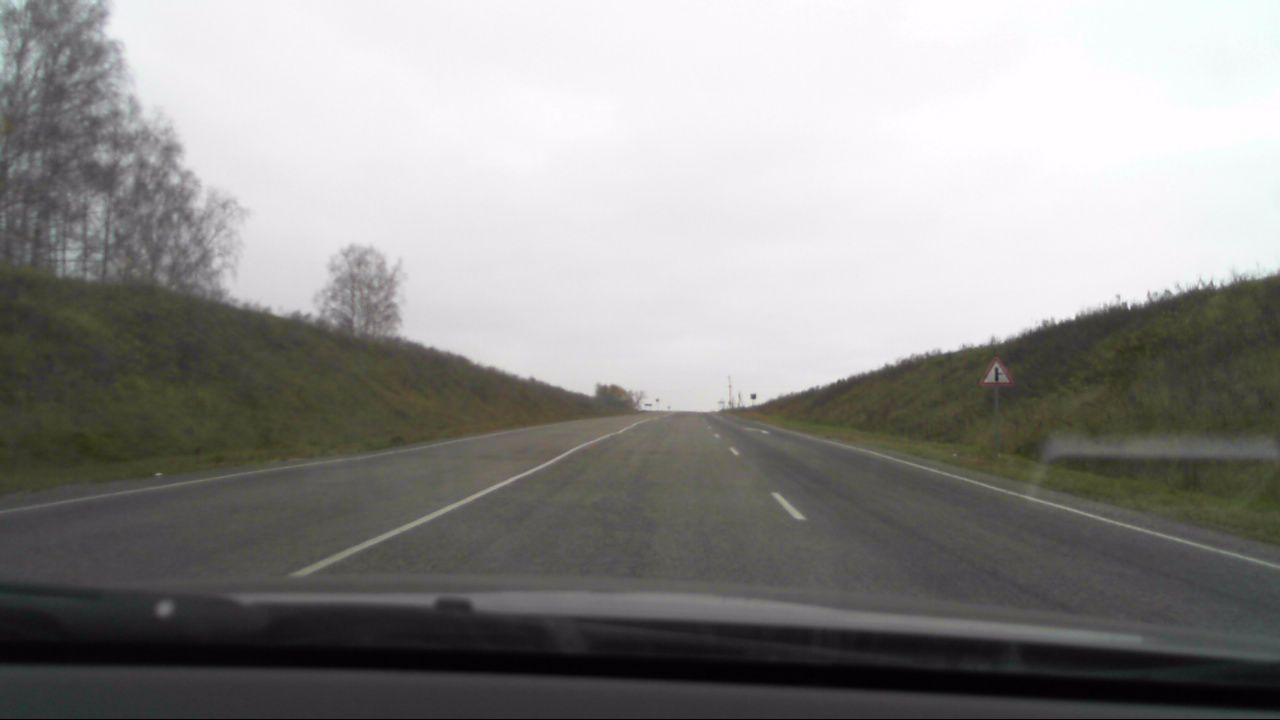2_3_2: (982, 355, 1011, 385)
